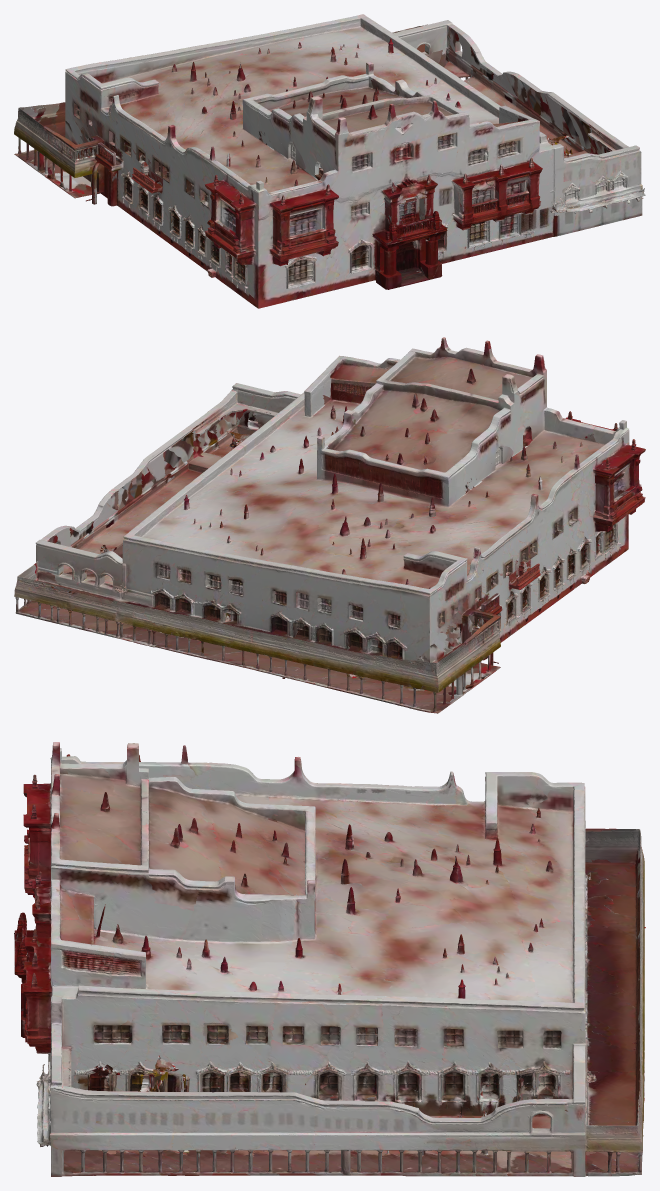
The model's file is municipalidad_draco.glb.
3 renders of one model, top to bottom at view 1: azimuth 30°, elevation 25°; view 2: azimuth 150°, elevation 25°; view 3: azimuth 270°, elevation 25°, orthographic. The views are drawn at different scales.
Visible parts, largest first — view 1: tmp_xoet9gr.obj; view 2: tmp_xoet9gr.obj; view 3: tmp_xoet9gr.obj.
Part boxes in pixels (x1,y1,x2,y2): tmp_xoet9gr.obj: (14, 14, 645, 308); tmp_xoet9gr.obj: (14, 337, 645, 713); tmp_xoet9gr.obj: (14, 742, 645, 1176).
Bounding box in the file's own units: 1.35 × 0.5438 × 1.29.
1 material, 1 textured.
